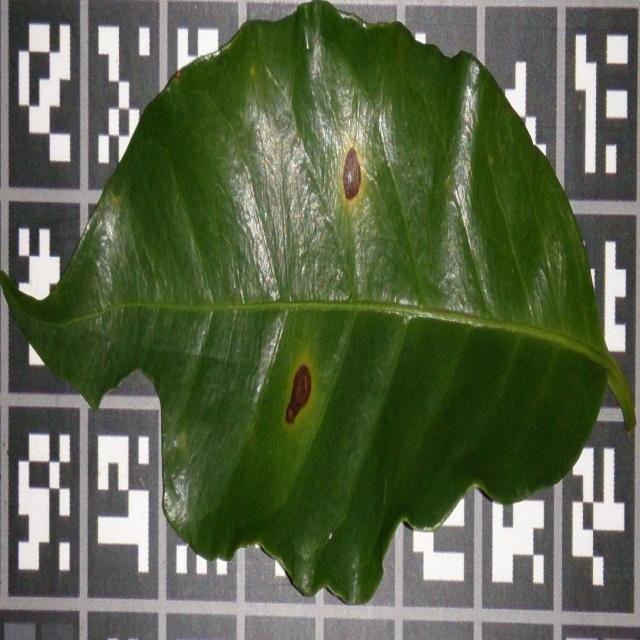Enfermedad-Mancha-de-hierro: (8, 6, 626, 606)
